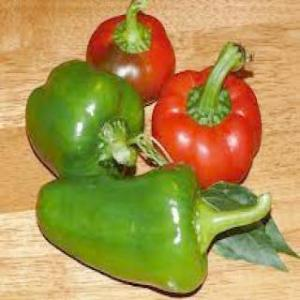bell_pepper: (13, 60, 150, 190)
